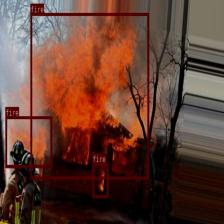fire: (30, 12, 149, 178), (5, 116, 52, 167), (92, 162, 108, 197)
